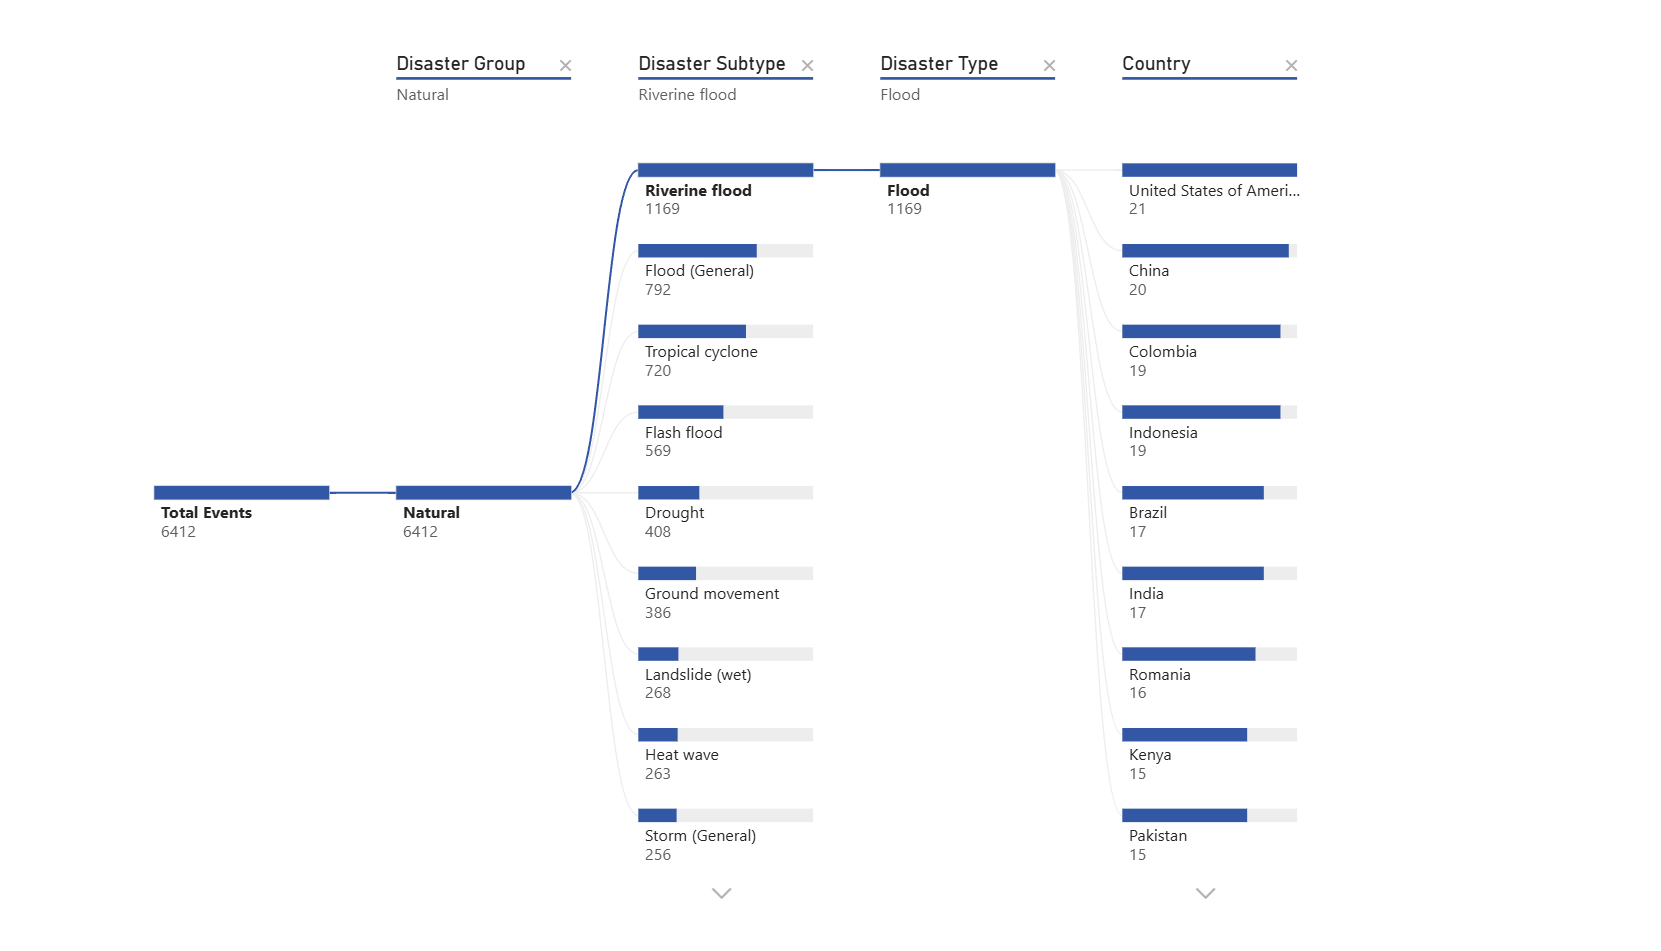

The page's visual inventory and layout, read from the dashboard file:
{"tool":"powerbi","page":{"name":"AI Tree","canvas":[1280,720],"ordinal":1},"visuals":[{"type":"decompositionTreeVisual","fields":{"Analyze":["CountNonNull(Disasters.Total Events)"],"ExplainBy":["Disasters.Disaster Group","Disasters.Disaster Subtype","Disasters.Disaster Type","Master_Countries.Country"]},"box":[150,26.4,1031.8,666.4],"z":0}]}

Visuals, with their boxes in screenshot pixels (x1, y1, x2, y2), scaled from the page's 1280x720 canvas onto the 1661x951 screenshot:
decompositionTreeVisual - CountNonNull(Disasters.Total Events) x Disasters.Disaster Group: BBox(195, 35, 1534, 915)
